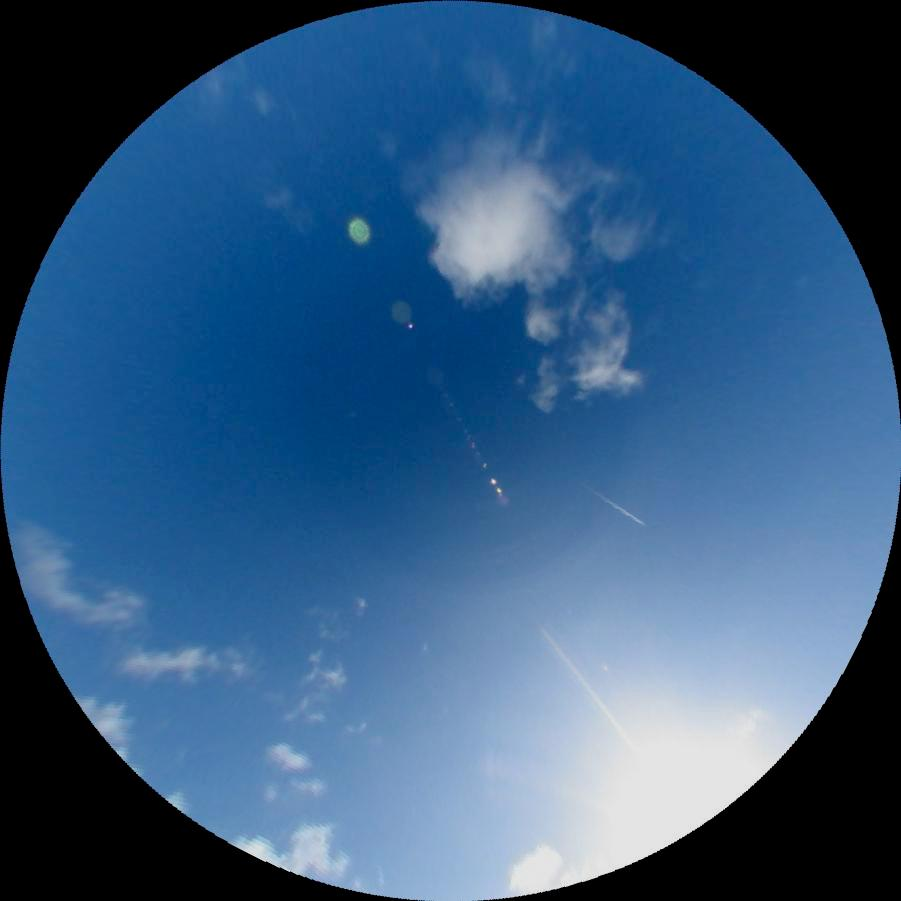contrail young: (582, 484, 646, 527), (378, 861, 385, 895)
parasite: (539, 623, 637, 755)
sun: (563, 687, 785, 881)
